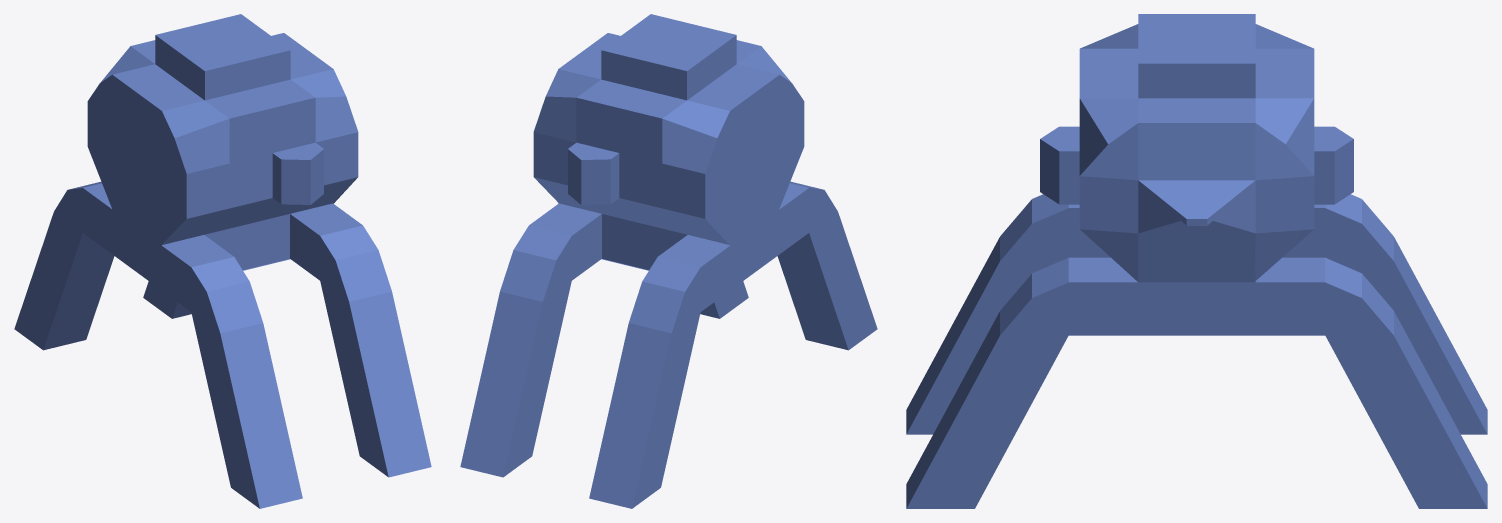
Rendered from mine.dae.
3 renders of one model, left to right at view 1: azimuth 30°, elevation 25°; view 2: azimuth 150°, elevation 25°; view 3: azimuth 270°, elevation 25°, orthographic. The views are drawn at different scales.
Visible parts, largest first — view 1: Cube; view 2: Cube; view 3: Cube.
Boxes of the visible parts, x1,y1,x2,y2 form: Cube: [14, 14, 431, 508]; Cube: [460, 14, 877, 508]; Cube: [906, 14, 1487, 508].
Size of the model in its own units: 2.4 by 4.96 by 3.96.
